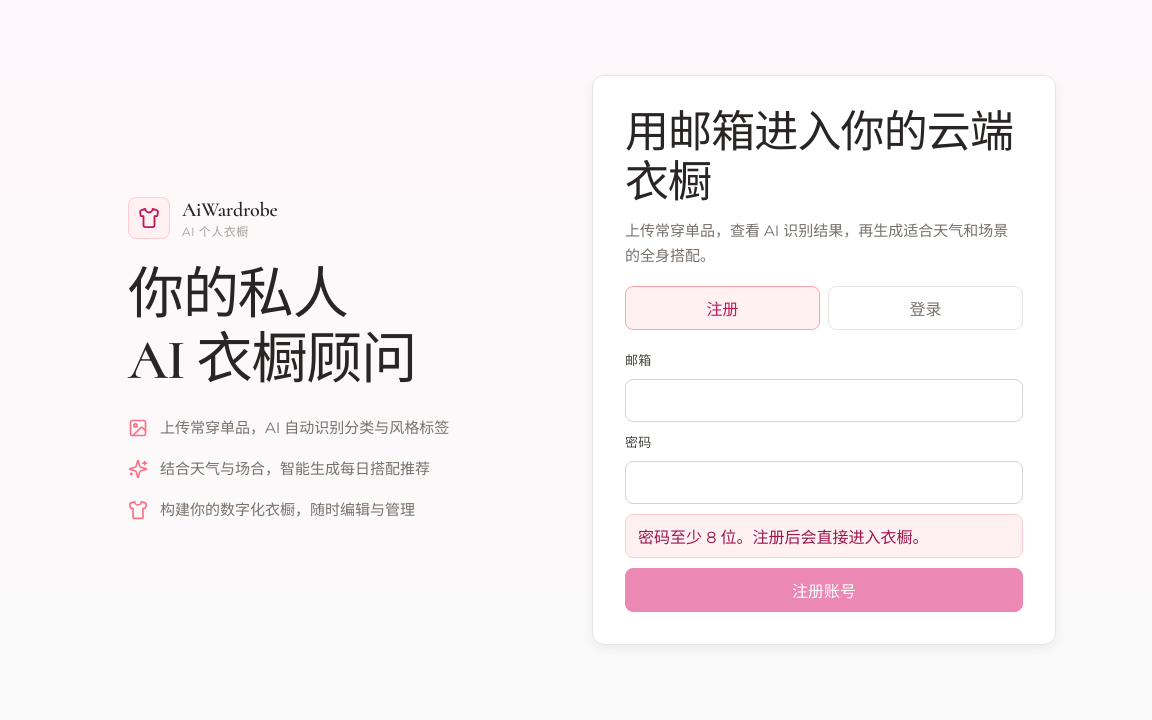
Test: AiWardrobe app › registers with email and password and shows the empty wardrobe state
The image size is (1152, 720).
Check: the button "注册账号" is disabled, box [625,568,1023,612]
Type "user@example.com" into the field labelled "邮箱" at (824, 401), box [625,379,1023,422]
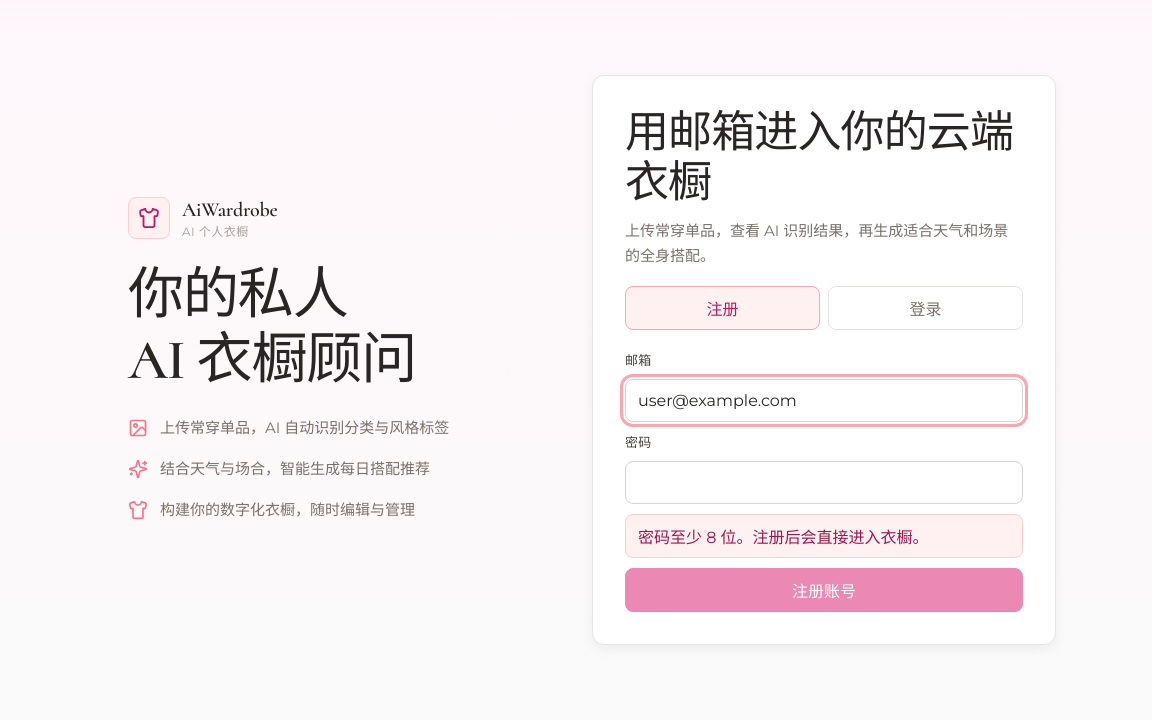
Type "correct-horse-123" into the password field labelled "密码" at (824, 483), box [625,461,1023,504]
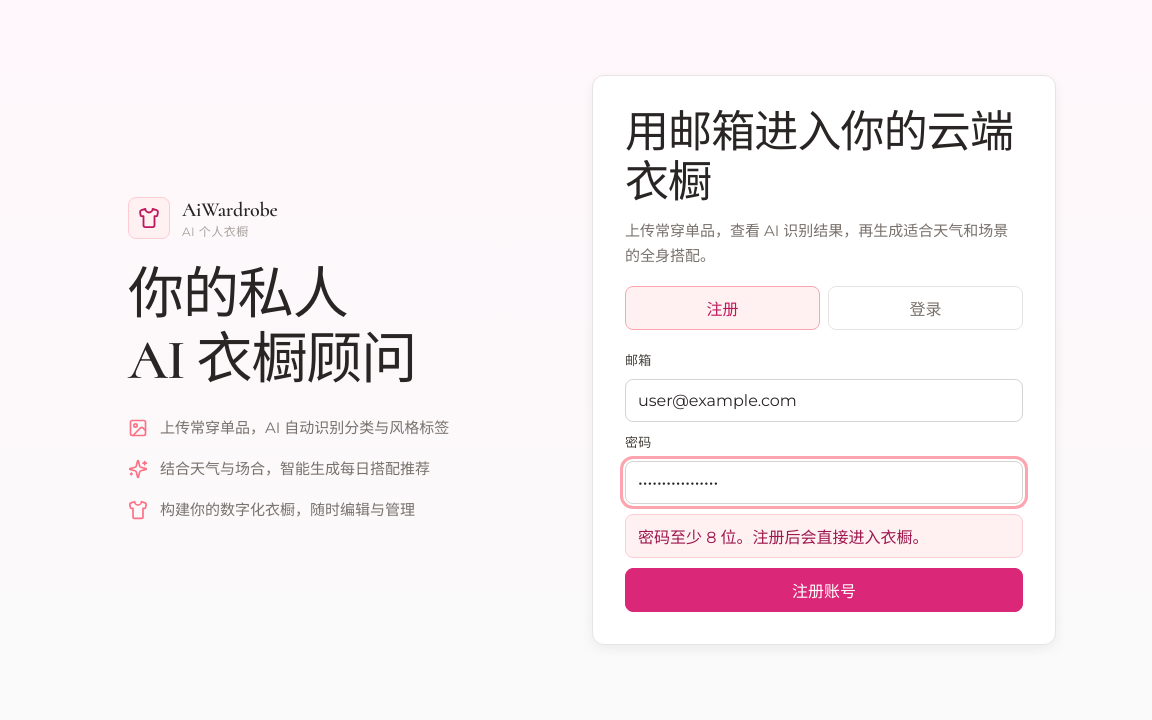
Click the button "注册账号" at (824, 590), box [625,568,1023,612]
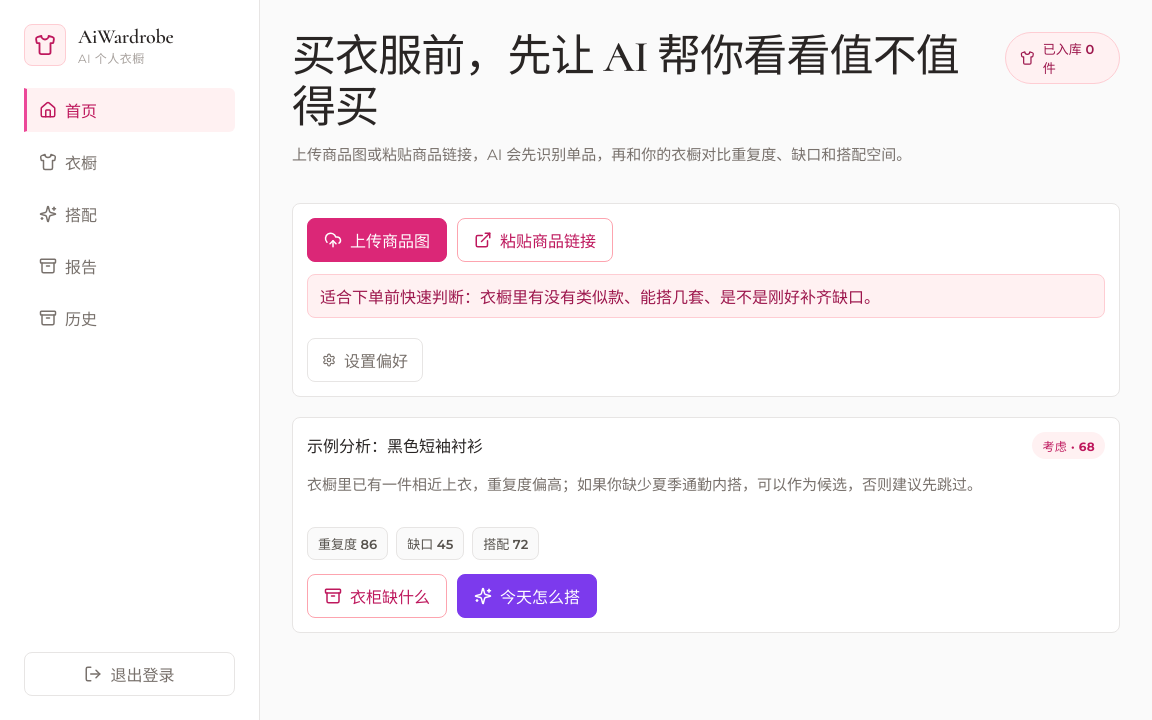
Check: the heading "买衣服前，先让 AI 帮你看看值不值得买" is shown, box [292,32,987,133]
Click the button "衣橱" at (130, 162), box [24,140,235,184]
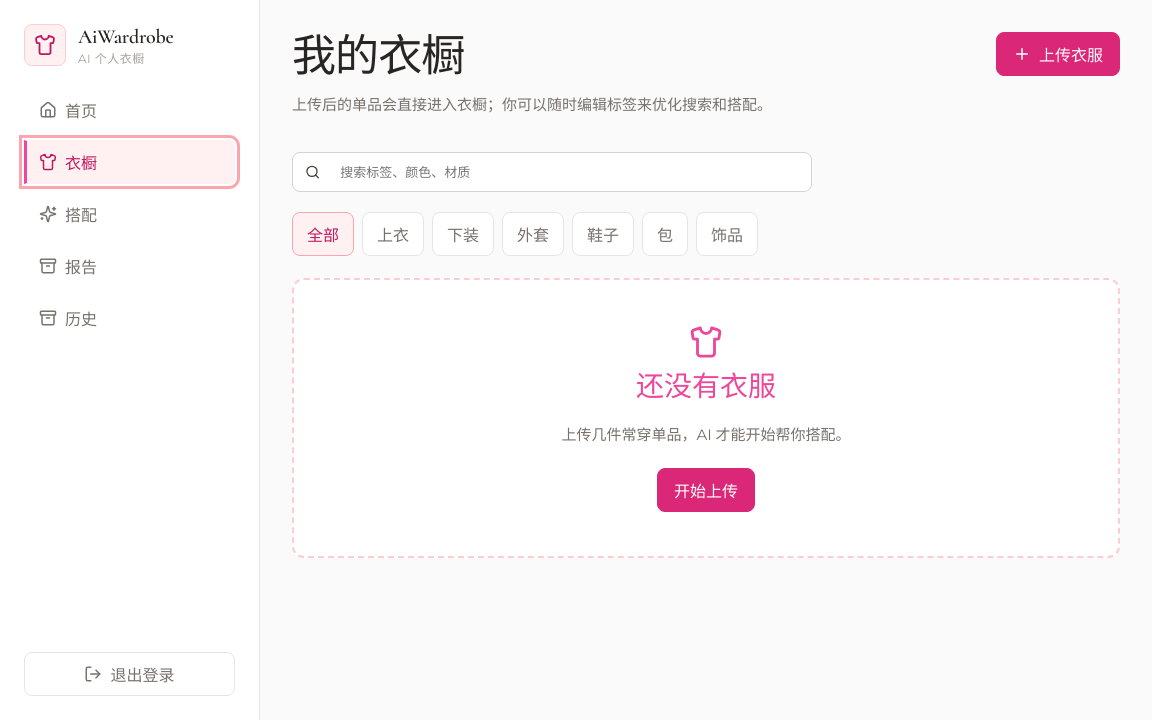
Check: the heading "还没有衣服" is shown, box [636,371,776,403]
Check: the text "上传几件常穿单品，AI 才能开始帮你搭配。" is shown, box [561,423,851,448]
